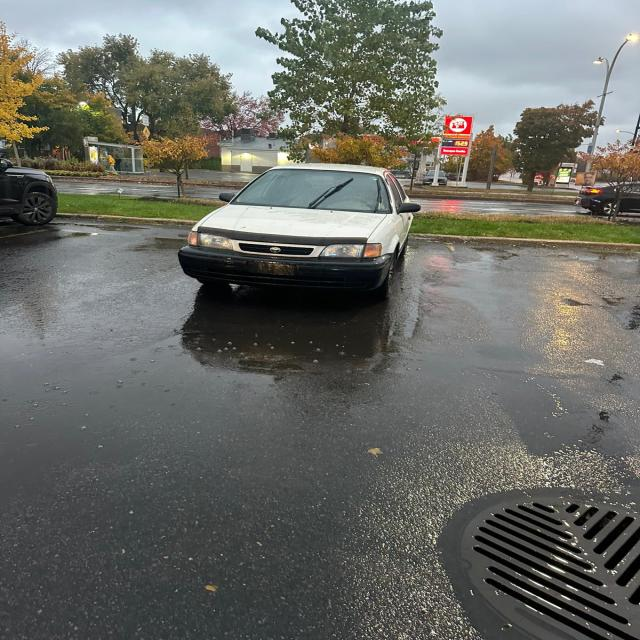plaque: (249, 261, 295, 275), (575, 198, 581, 205)
